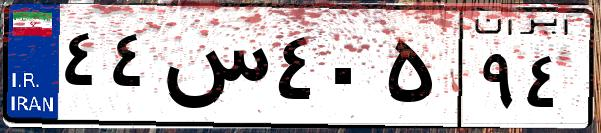0: (330, 28, 385, 110)
4: (270, 28, 330, 110), (57, 26, 110, 100), (525, 38, 570, 115), (110, 28, 158, 98)
5: (385, 28, 445, 110)
9: (475, 38, 525, 113)
س: (158, 20, 270, 120)
